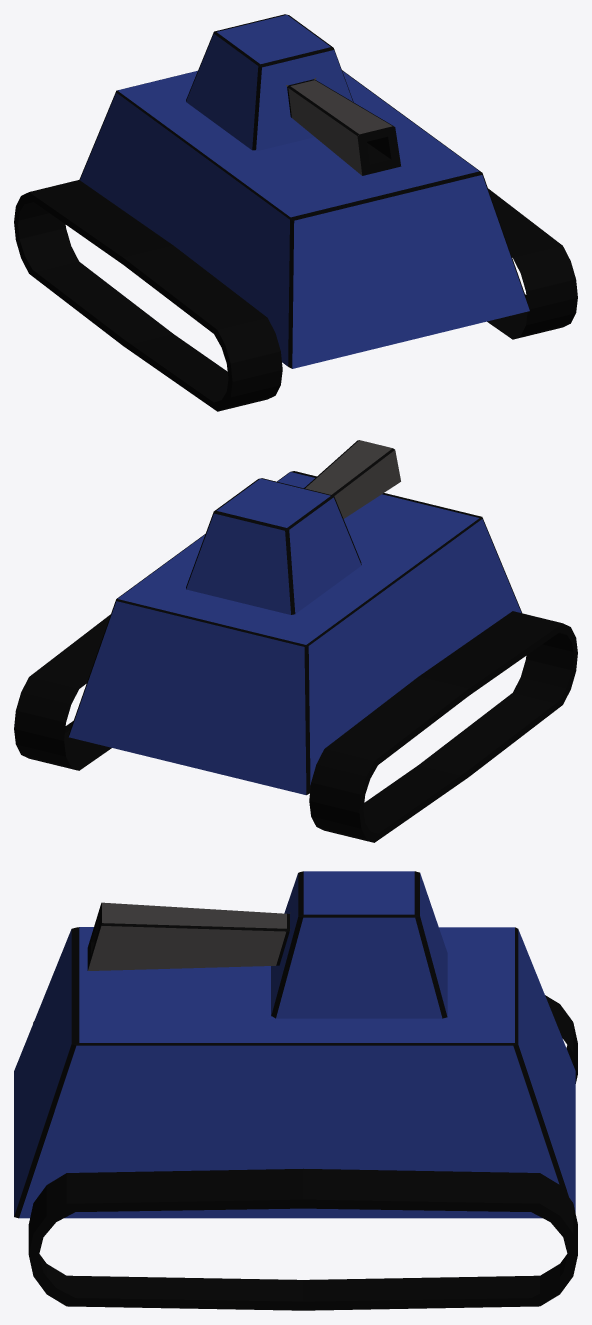
Rendered from tank.glb.
3 views of the same model, one above another, from view 1: azimuth 30°, elevation 25°; view 2: azimuth 150°, elevation 25°; view 3: azimuth 270°, elevation 25° (orthographic). The views are drawn at different scales.
Visible parts, largest first — view 1: Cube, Circle; view 2: Cube, Circle; view 3: Cube, Circle.
Boxes of the visible parts, x1,y1,x2,y2 form: Cube: (79, 14, 529, 368); Circle: (14, 180, 577, 411); Cube: (68, 440, 521, 795); Circle: (14, 611, 577, 842); Cube: (14, 871, 575, 1218); Circle: (28, 995, 577, 1310).
Bounding box in the file's own units: 0.7665 × 0.5262 × 0.8627.
Materials: 4 (1 with a texture image).
